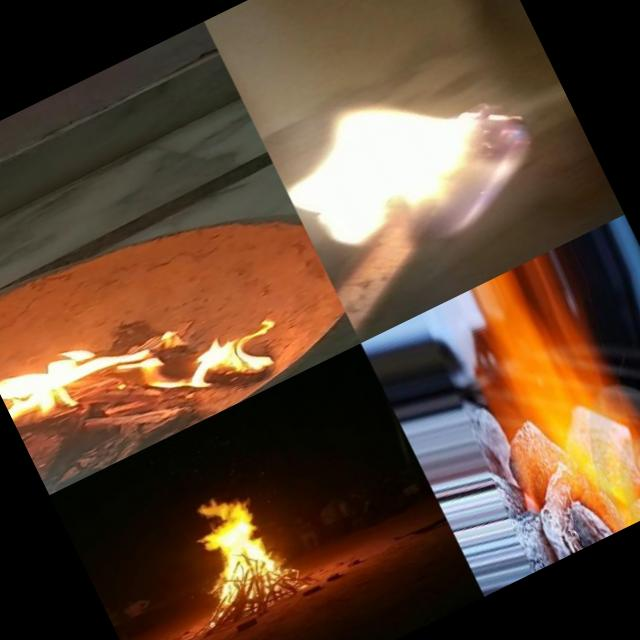fire: (258, 19, 582, 314), (0, 212, 297, 494), (439, 236, 640, 558), (170, 474, 302, 614)
